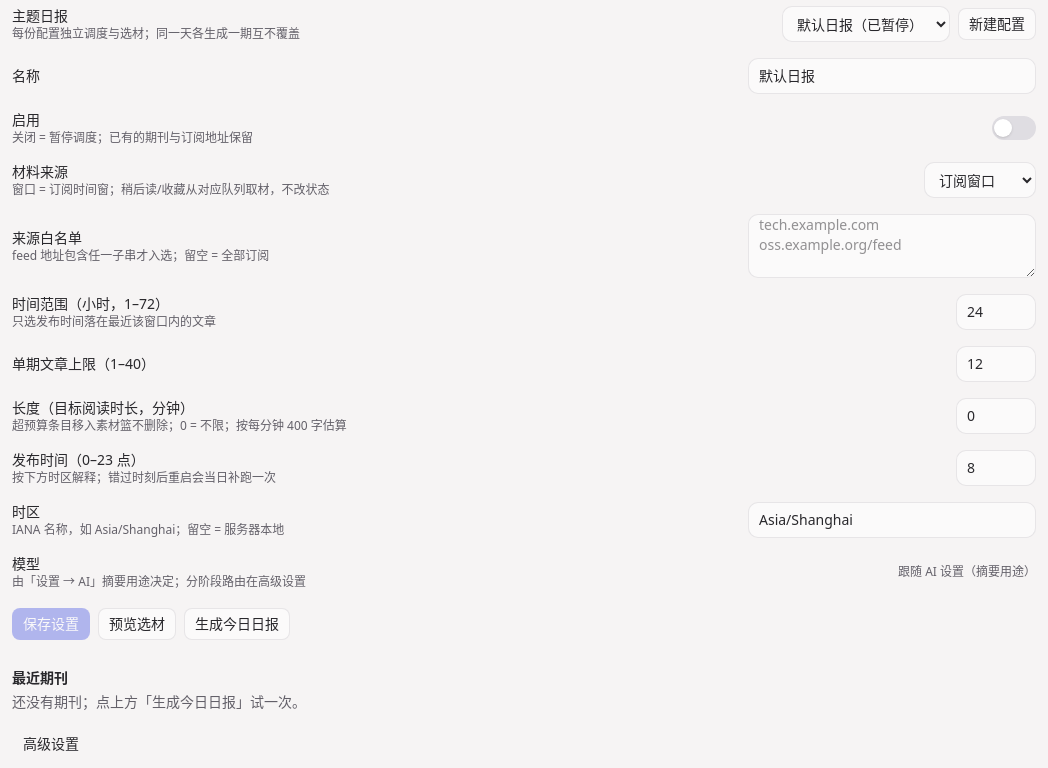
Test case: GptDigestSection（F01 多配置） › 渲染配置列表并显示暂停状态；可切换选择
Select "开源日报" in the dropdown named "选择日报配置". click: (866, 24)
box: [782,6,950,42]
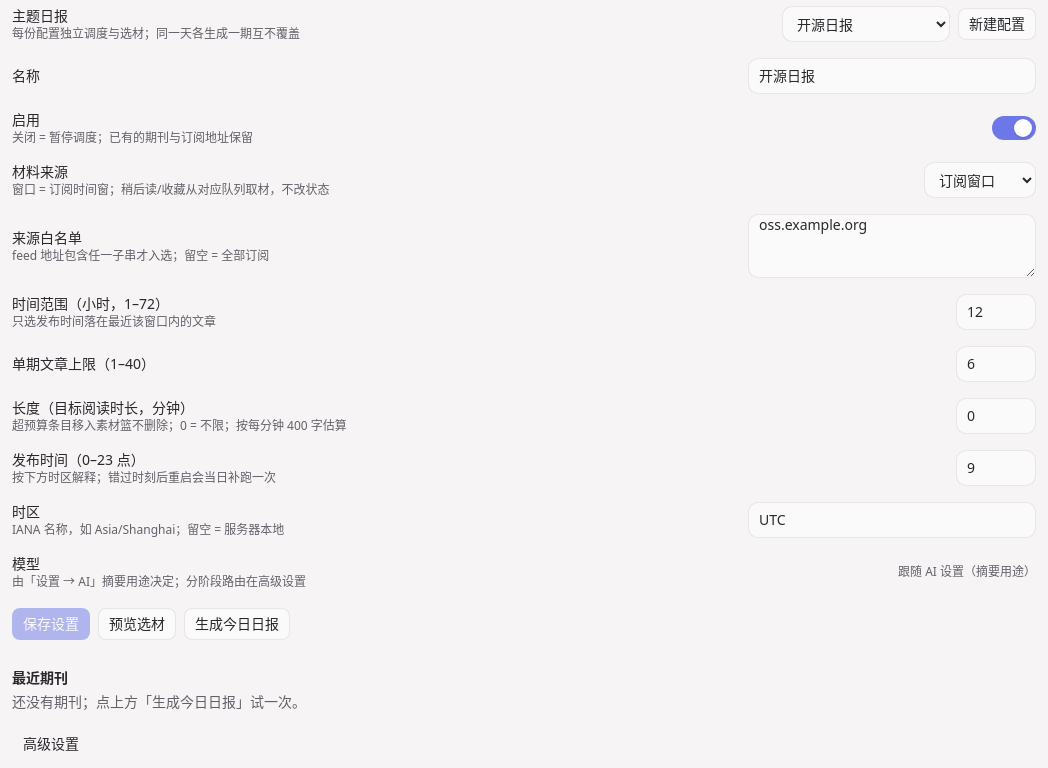
Now the field named "日报名称" holds "开源日报", box [748,58,1036,94]
